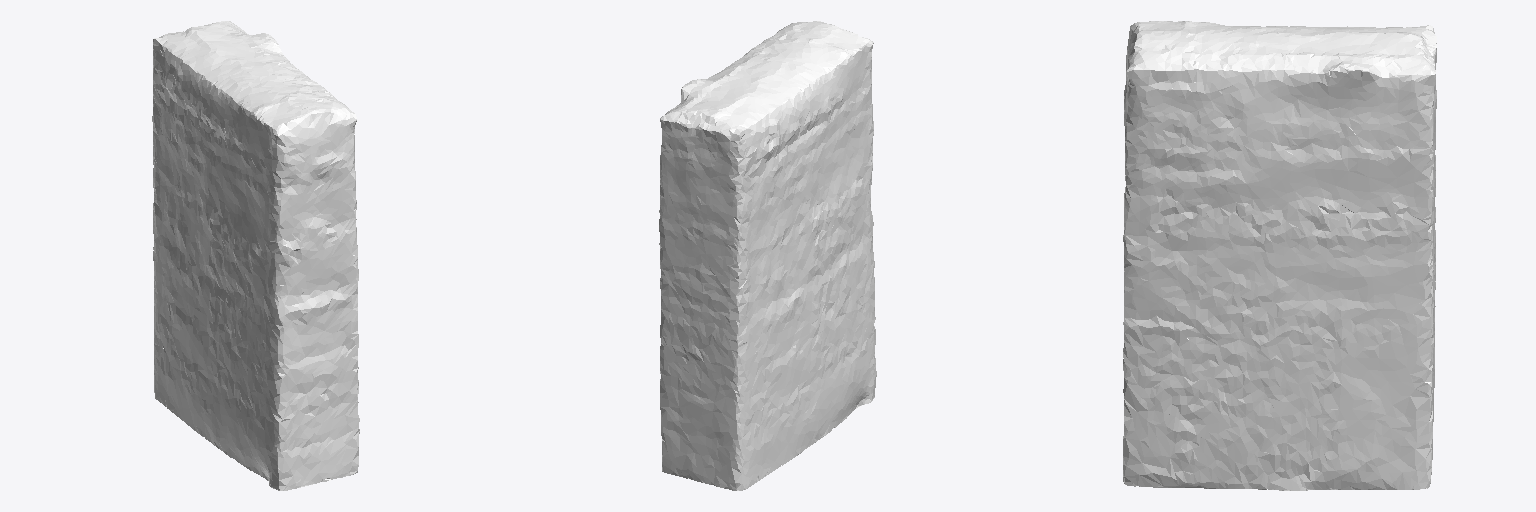
The robot description file, URDF, robot "muesli":
<?xml version="1.0" ?>
<robot name="muesli">
 <link name="baseLink">
   <contact>
     <lateral_friction value="0.5"/>
   </contact>
   <inertial>
     <origin rpy="0 0 0" xyz="-0.00069 0.002046 -0.011996"/>
      <mass value="1.0"/>
      <inertia ixx="0.000012" ixy="-0.000000" ixz="-0.000000" iyy="0.000009" iyz="-0.000000" izz="0.000004"/>
   </inertial>
   <visual>
     <origin rpy="0 0 0" xyz="0 0 0"/>
     <geometry>
       <mesh filename="muesli.obj" scale="1.0 1.0 1.0"/>
     </geometry>
      <material name="white">
       <color rgba="1 1 1 1"/>
     </material>
   </visual>
   <collision>
     <origin rpy="0 0 0" xyz="0 0 0"/>
     <geometry>
       <mesh filename="muesli_vhacd2.obj" scale="1.0 1.0 1.0"/>
     </geometry>
   </collision>
 </link>
</robot>

--- Facts derived from the render (not from the file) ---
3 views of the same robot in one strip: view 1: azimuth 30°, elevation 25°; view 2: azimuth 150°, elevation 25°; view 3: azimuth 270°, elevation 25° (orthographic).
Model muesli with 1 links and 0 joints (none), rooted at baseLink, posed all joints at 0.
Visible links, largest first — view 1: baseLink; view 2: baseLink; view 3: baseLink.
Boxes of the visible links, <box> form: baseLink: <box>152,21,359,490</box>; baseLink: <box>659,21,876,490</box>; baseLink: <box>1123,21,1436,491</box>.
Size in the robot's own frame: 0.0618 by 0.1494 by 0.2245 metres.
1 mesh visuals loaded from 1 distinct referenced files (1 OBJ).